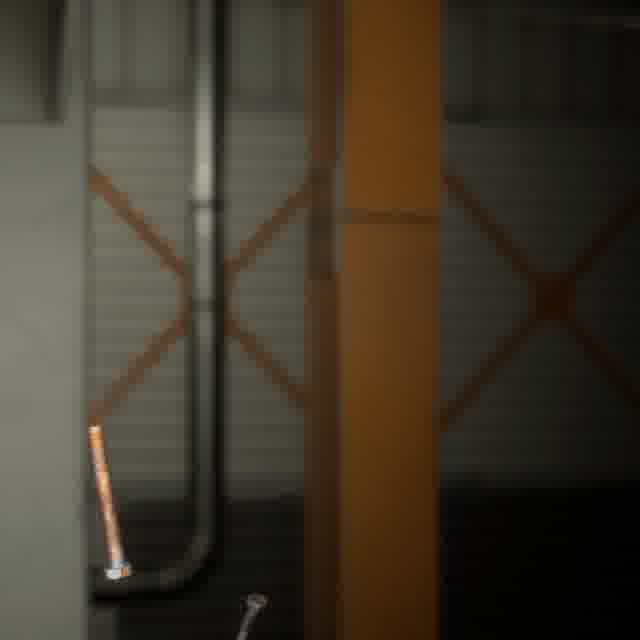bolt: (82, 419, 136, 583), (231, 589, 271, 640)
